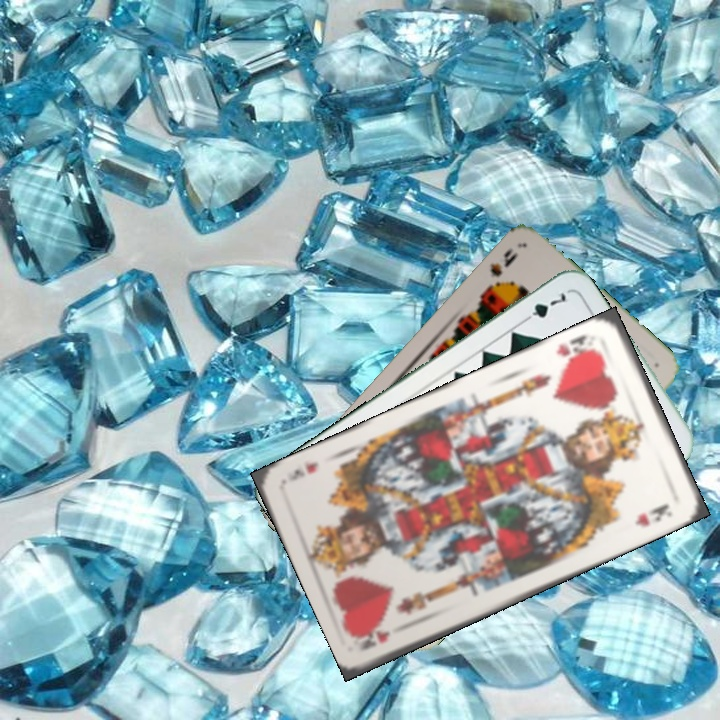G7: (517, 288, 569, 326)
HK: (551, 330, 599, 368), (355, 626, 393, 653)
S9: (480, 244, 521, 296)
